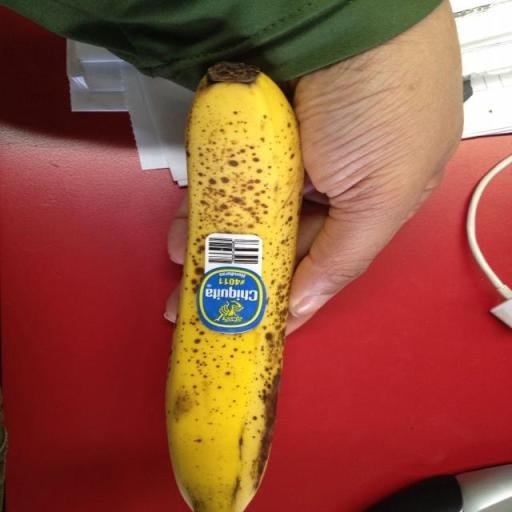fruit: (167, 63, 303, 511)
